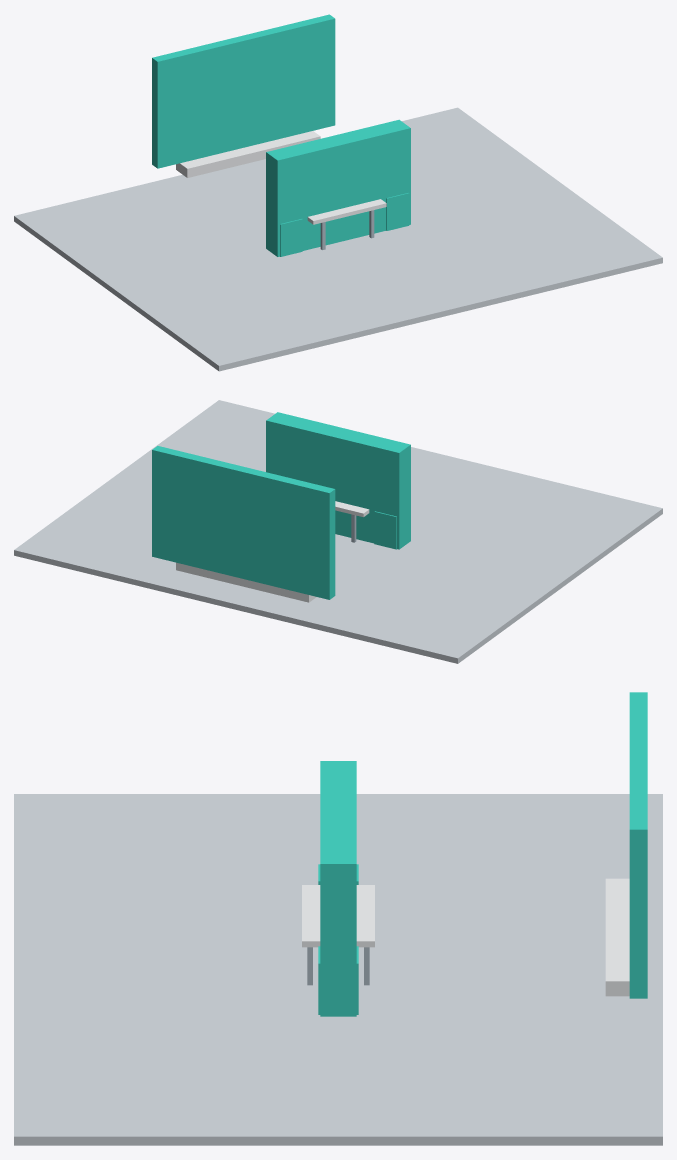
3 views of the same model, one above another, from view 1: azimuth 30°, elevation 25°; view 2: azimuth 150°, elevation 25°; view 3: azimuth 270°, elevation 25° (orthographic). The views are drawn at different scales.
Parts seen in each view (by area): view 1: Exhibition Booth Concept; view 2: Exhibition Booth Concept; view 3: Exhibition Booth Concept.
Boxes of the visible parts, x1,y1,x2,y2 form: Exhibition Booth Concept: [14, 14, 662, 371]; Exhibition Booth Concept: [14, 400, 662, 663]; Exhibition Booth Concept: [14, 692, 662, 1145].
Size of the model in its own units: 10 by 2.9 by 8.
